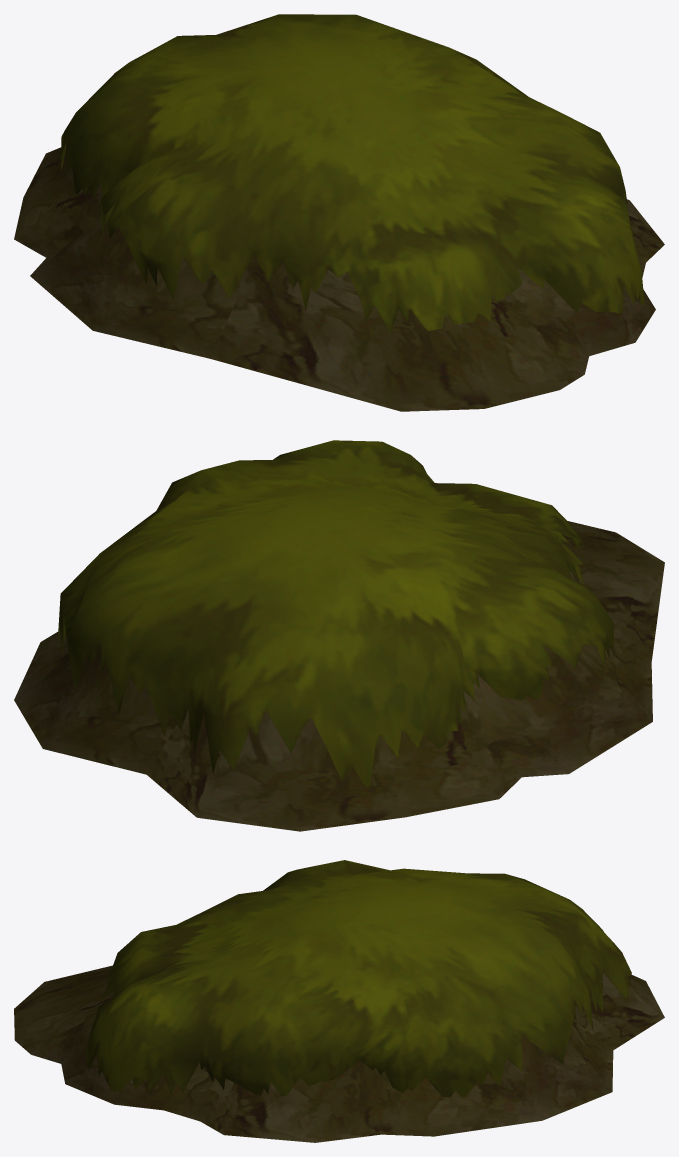
Rendered from lumina_construct_trimadd_01.FBX.
The picture shows the model from 3 angles, top to bottom: view 1: azimuth 30°, elevation 25°; view 2: azimuth 150°, elevation 25°; view 3: azimuth 270°, elevation 25°; orthographic projection. The views are drawn at different scales.
Parts seen in each view (by area): view 1: lumina_construct_trimadd_01; view 2: lumina_construct_trimadd_01; view 3: lumina_construct_trimadd_01.
Boxes of the visible parts, x1=… form: lumina_construct_trimadd_01: x1=14, y1=14, x2=664, y2=411; lumina_construct_trimadd_01: x1=14, y1=440, x2=664, y2=831; lumina_construct_trimadd_01: x1=14, y1=860, x2=664, y2=1142.
Bounding box in the file's own units: 6.19 × 1.74 × 7.65.
